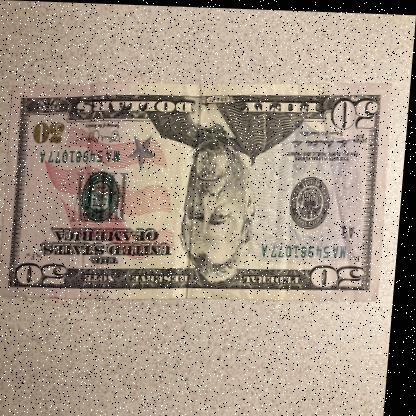fifty-front: (1, 70, 396, 309)
